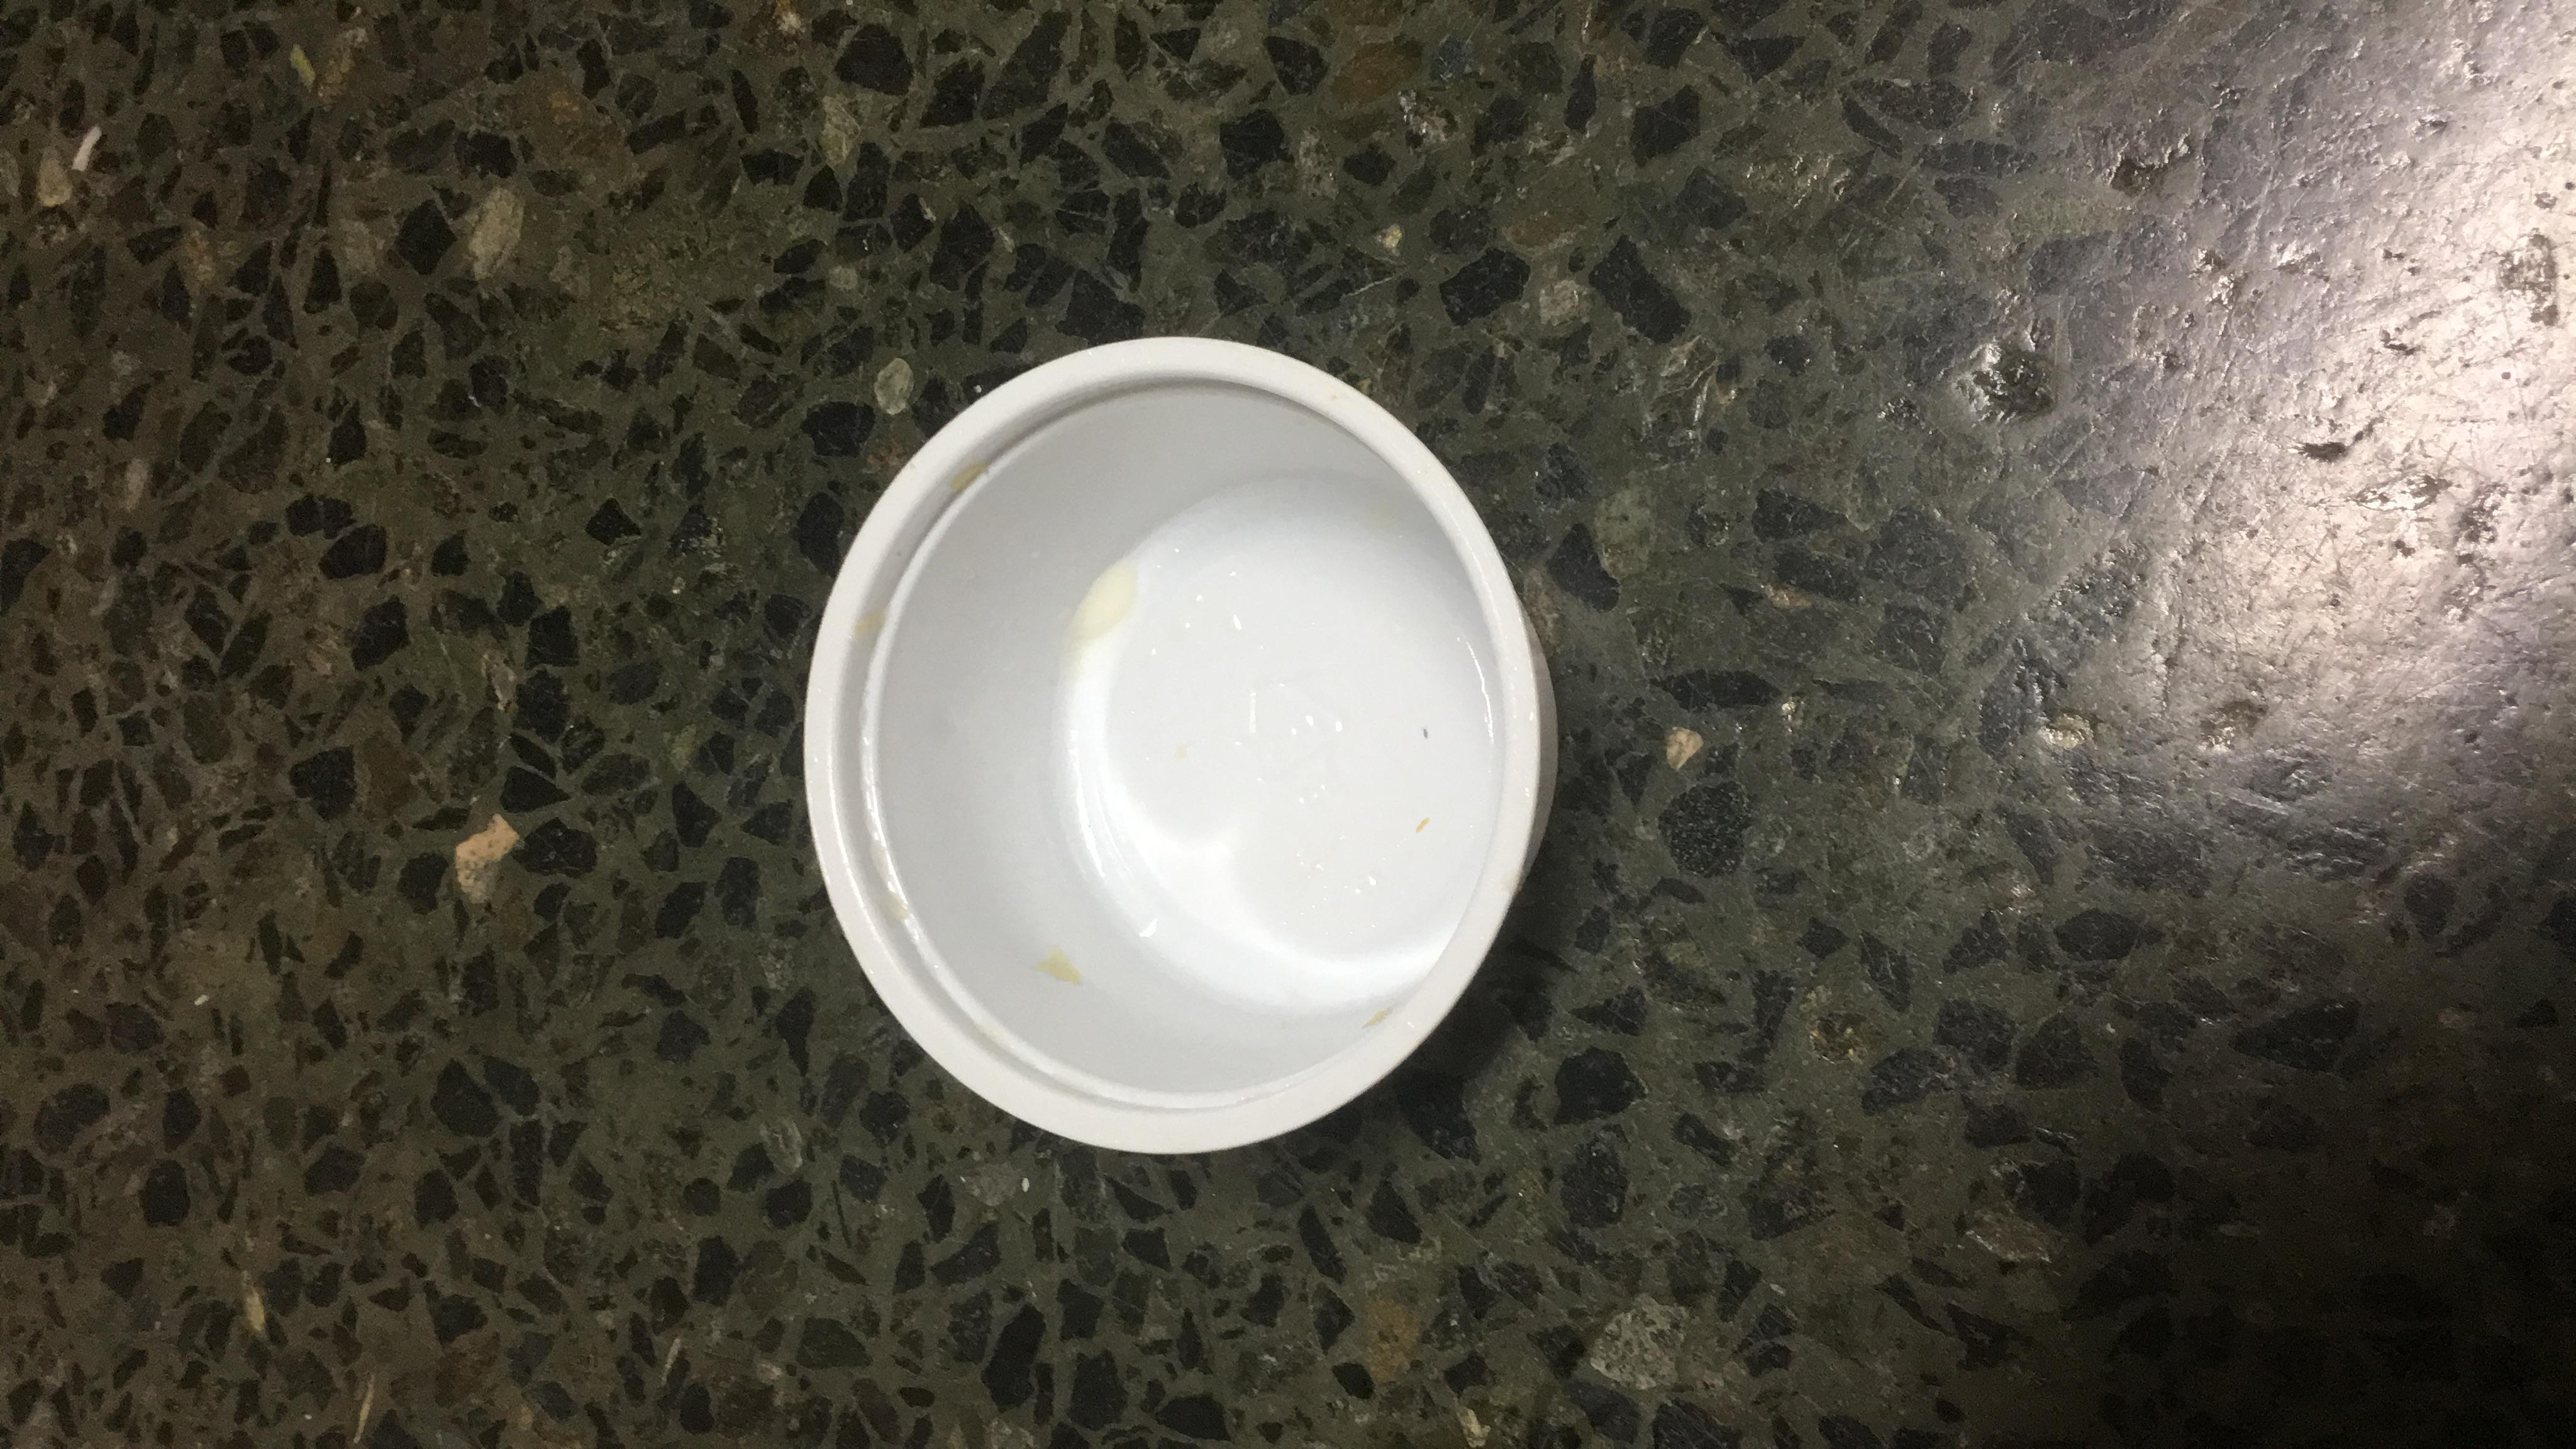bottle: (315, 432, 1974, 886)
